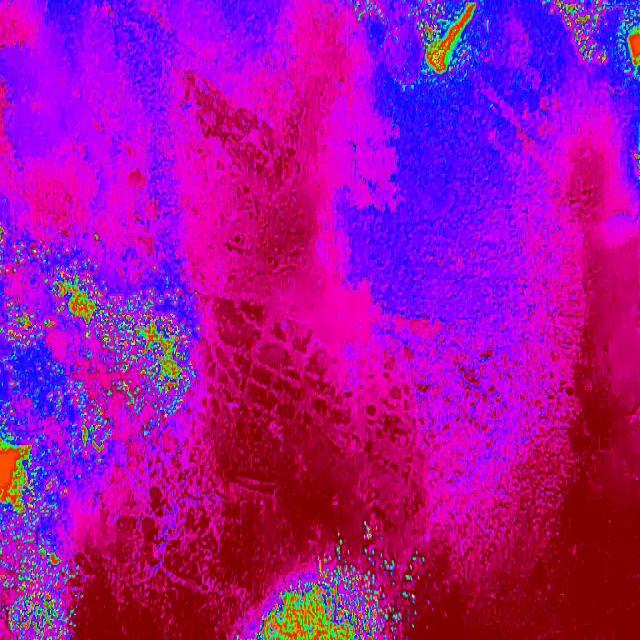fire: (0, 211, 97, 640), (97, 266, 203, 480), (392, 0, 486, 105), (252, 571, 390, 640), (541, 0, 640, 74), (330, 523, 390, 572), (390, 549, 422, 631)
